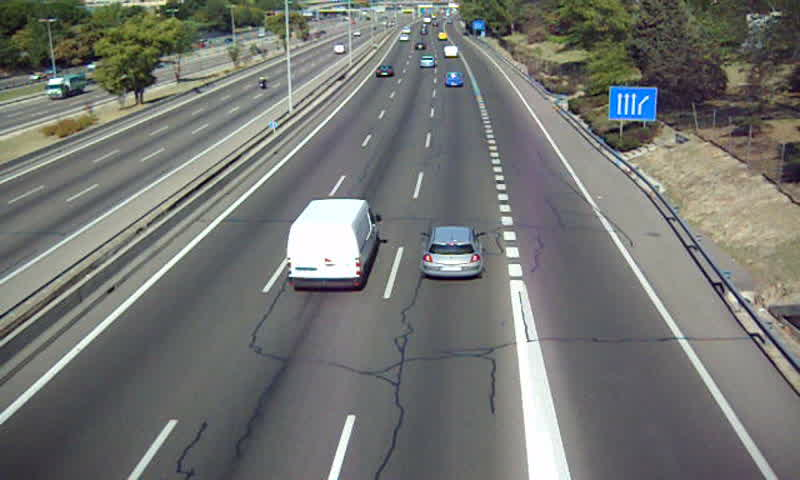car: (421, 226, 484, 277), (444, 70, 465, 88), (373, 65, 396, 80), (418, 54, 436, 69)
van: (287, 199, 378, 290)
